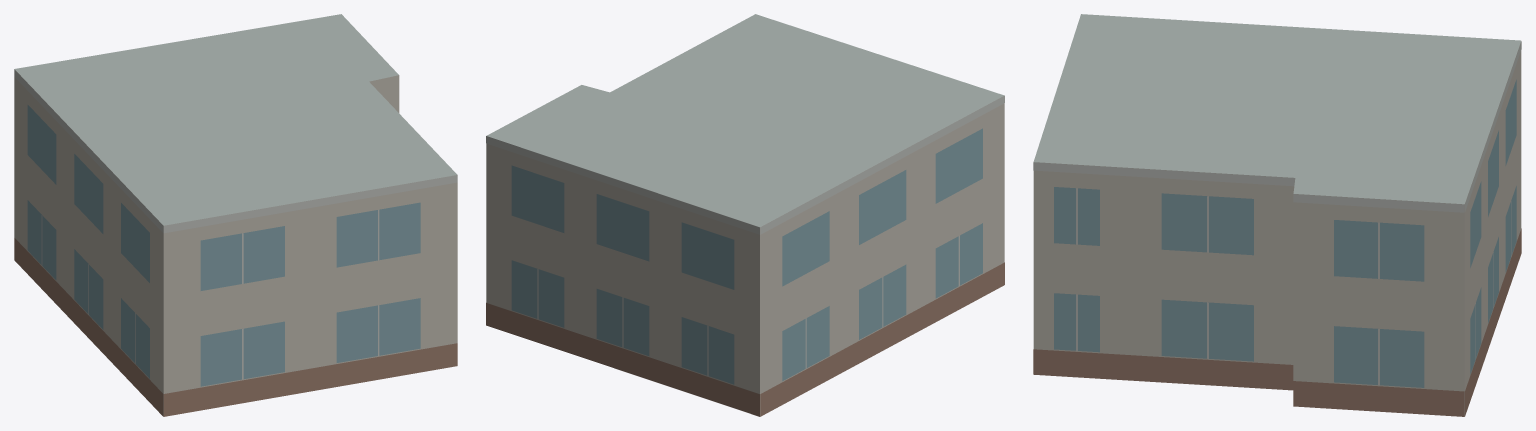
The model's file is survey-upis-32677401.glb.
3 renders of one model, left to right at view 1: azimuth 30°, elevation 25°; view 2: azimuth 150°, elevation 25°; view 3: azimuth 270°, elevation 25°, orthographic. The views are drawn at different scales.
Parts seen in each view (by area): view 1: survey-upis-32677401.tmp; view 2: survey-upis-32677401.tmp; view 3: survey-upis-32677401.tmp.
Boxes of the visible parts, x1,y1,x2,y2 form: survey-upis-32677401.tmp: (14,14,457,416); survey-upis-32677401.tmp: (486,14,1004,416); survey-upis-32677401.tmp: (1033,14,1521,416).
Bounding box in the file's own units: 11.72 × 6.1 × 12.7.
